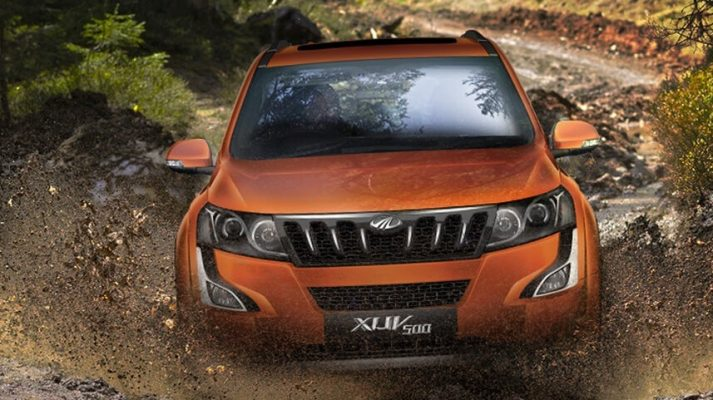car: (174, 39, 600, 366)
